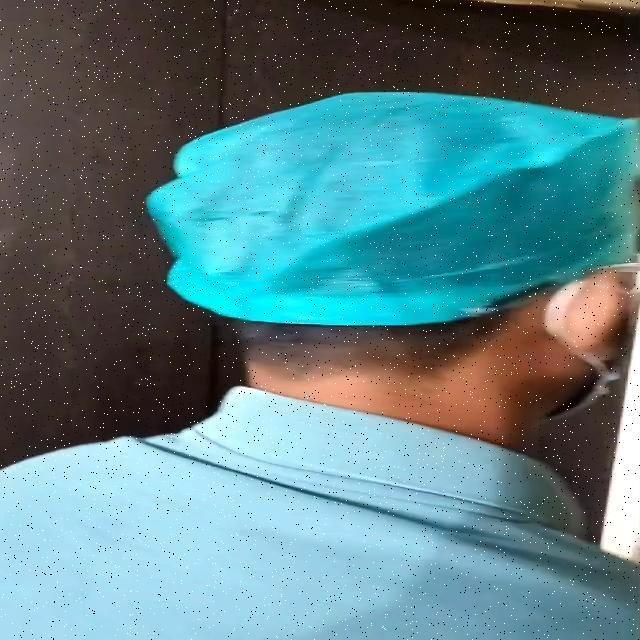gloves: (149, 74, 636, 346)
